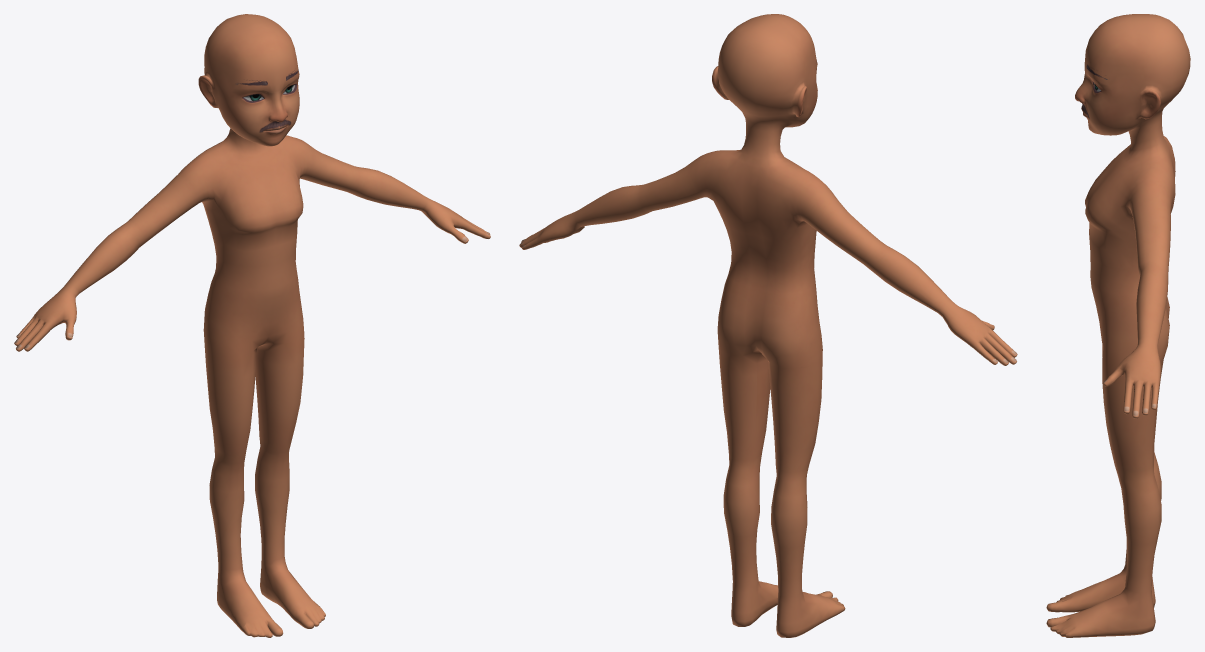
The model's file is frame_0053.glb.
3 views of the same model, side by side, from view 1: azimuth 30°, elevation 25°; view 2: azimuth 150°, elevation 25°; view 3: azimuth 270°, elevation 25° (orthographic). The views are drawn at different scales.
Parts seen in each view (by area): view 1: frame_0053_head_geo; view 2: frame_0053_head_geo; view 3: frame_0053_head_geo.
Part boxes in pixels (left/top/right/bottom): frame_0053_head_geo: left=14, top=14, right=490, bottom=637; frame_0053_head_geo: left=519, top=14, right=1017, bottom=637; frame_0053_head_geo: left=1046, top=14, right=1190, bottom=637.
Bounding box in the file's own units: 1.28 × 1.5 × 0.3253.
3 materials, 3 textured.
